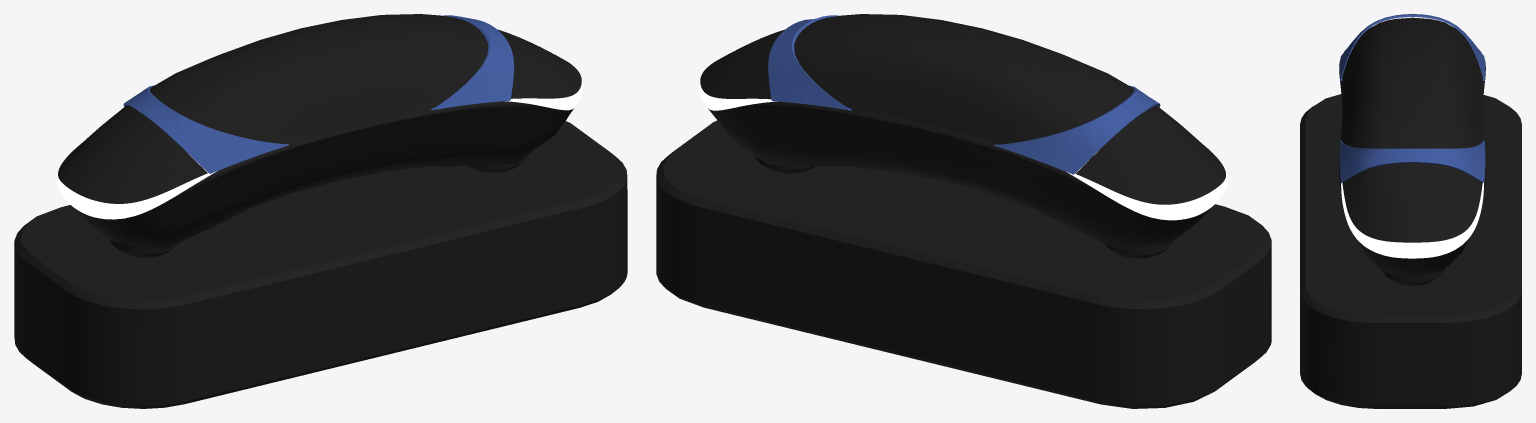
3 renders of one model, left to right at view 1: azimuth 30°, elevation 25°; view 2: azimuth 150°, elevation 25°; view 3: azimuth 270°, elevation 25°, orthographic. The views are drawn at different scales.
Parts seen in each view (by area): view 1: オブジェクト_4_2; view 2: オブジェクト_4_2; view 3: オブジェクト_4_2.
Part boxes in pixels (box(x1,y1,x2,y2)): オブジェクト_4_2: box(14, 14, 627, 408); オブジェクト_4_2: box(656, 14, 1271, 408); オブジェクト_4_2: box(1300, 14, 1521, 408).
Bounding box in the file's own units: 2.14 × 1.01 × 0.868.
